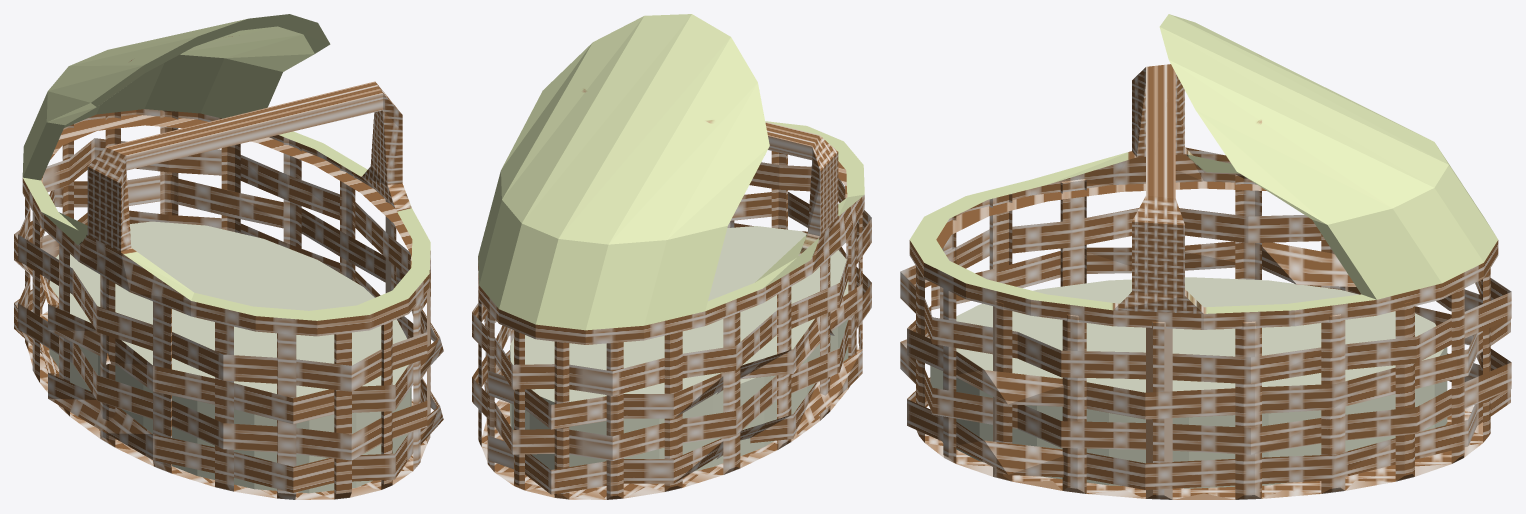
File: babycarrier_separate.fbx
The picture shows the model from 3 angles, left to right: view 1: azimuth 30°, elevation 25°; view 2: azimuth 150°, elevation 25°; view 3: azimuth 270°, elevation 25°; orthographic projection. The views are drawn at different scales.
Parts seen in each view (by area): view 1: baby_carrier; view 2: baby_carrier; view 3: baby_carrier.
Boxes of the visible parts, x1,y1,x2,y2 form: baby_carrier: (14,14,443,499); baby_carrier: (472,14,871,499); baby_carrier: (900,14,1511,499).
Bounding box in the file's own units: 35.59 × 43.47 × 60.06.
2 materials, 1 textured.
